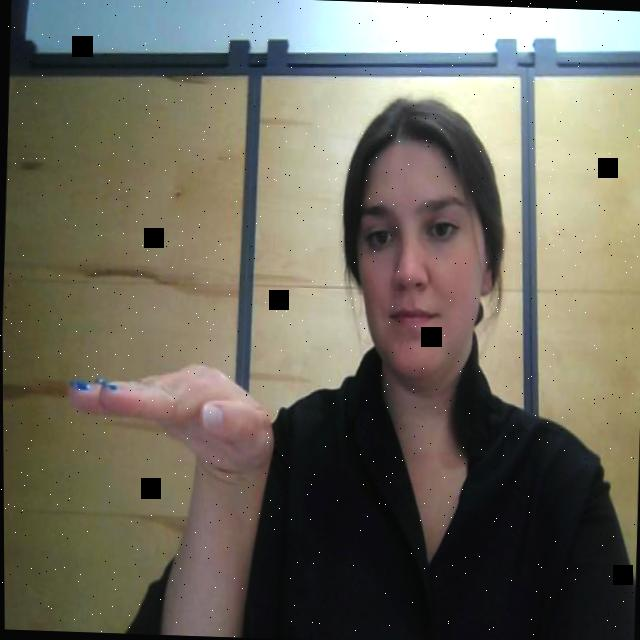Paper: (87, 344, 274, 466)
